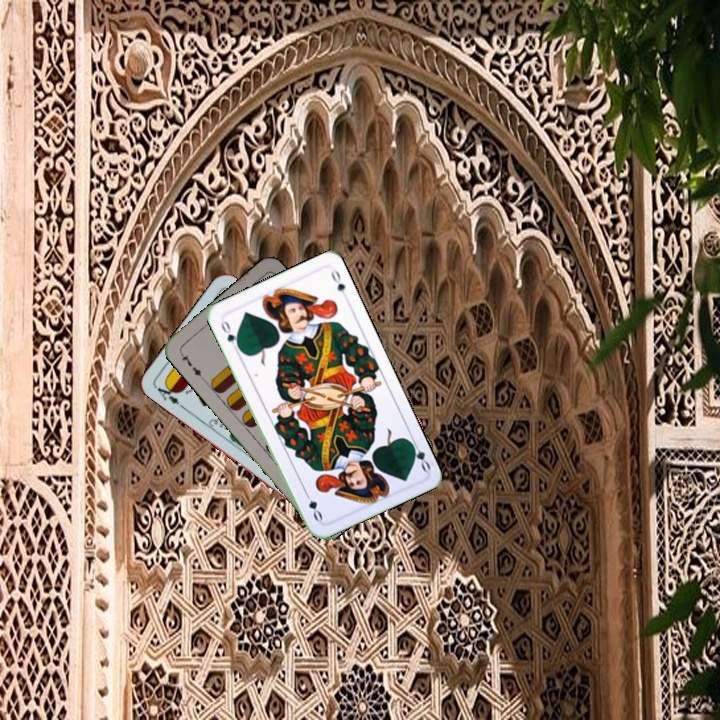E7: (176, 348, 206, 382)
EA: (151, 379, 186, 411)
GO: (405, 435, 433, 474), (217, 317, 243, 354)
